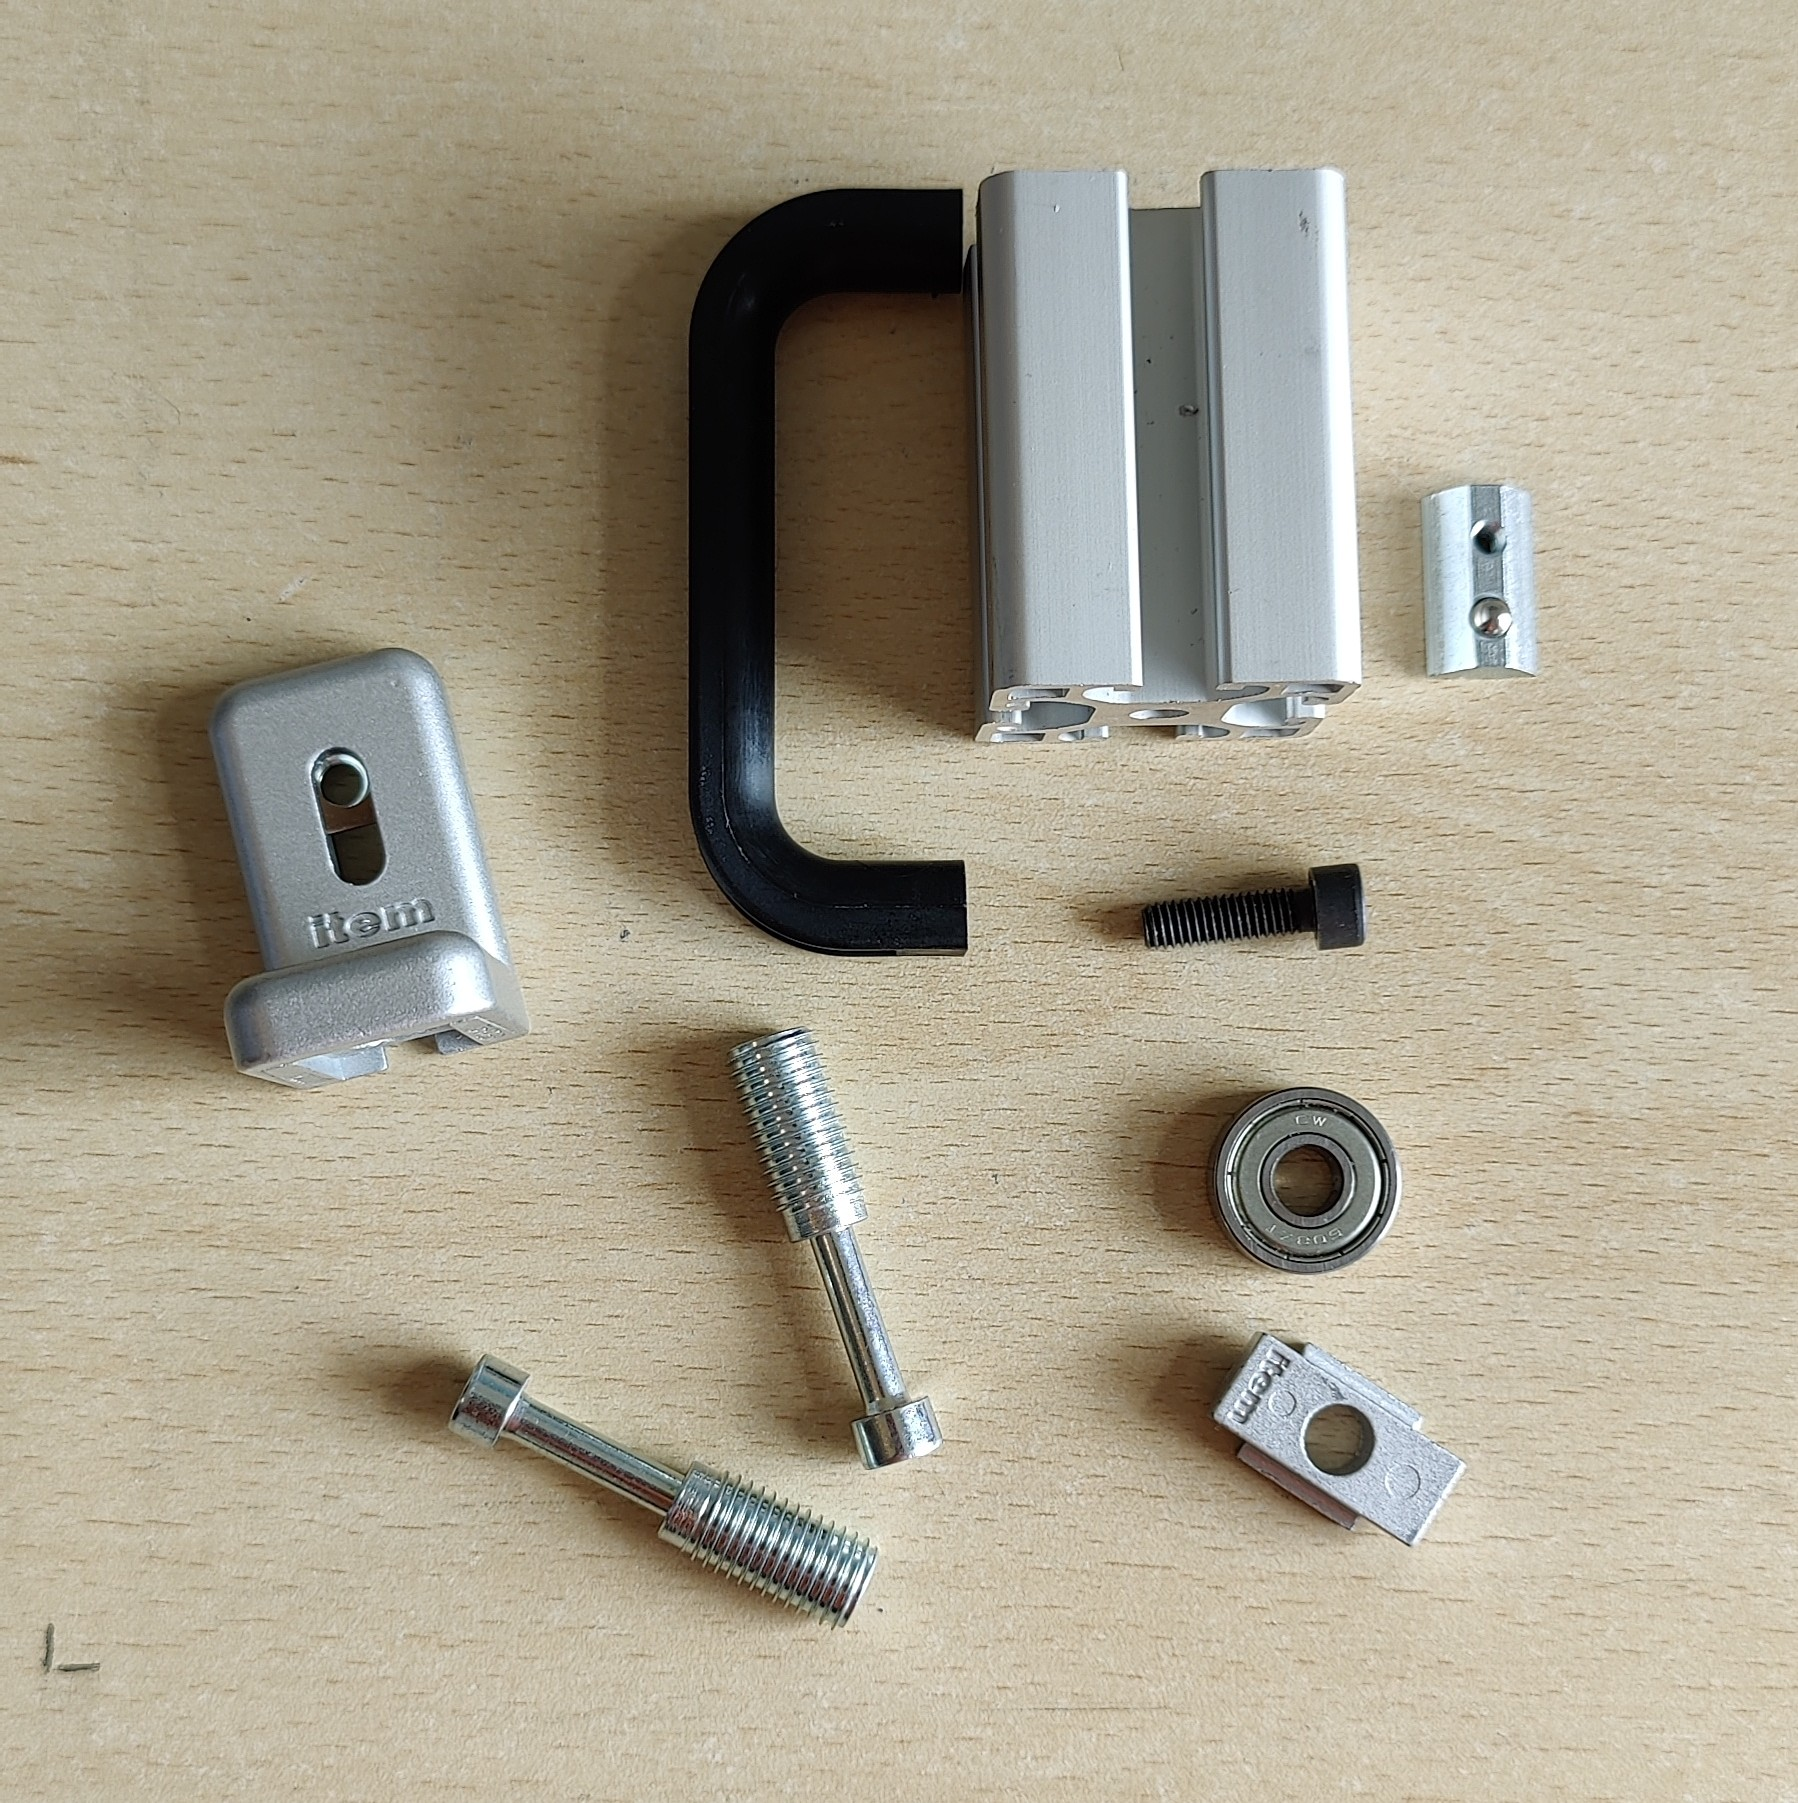Aluminium Extension: (962, 165, 1367, 751)
Ball Bearing: (1202, 1080, 1406, 1278)
Multiwinkel: (204, 645, 530, 1095)
Pull Handle: (682, 183, 970, 960)
Shoulder Socket Head Cap Screw: (445, 1349, 883, 1635), (721, 1023, 948, 1470)
Socket Head Cap Screw: (1138, 863, 1372, 952)
T Nut Square: (1205, 1325, 1470, 1551)
T Spring Nut: (1418, 478, 1544, 683)
